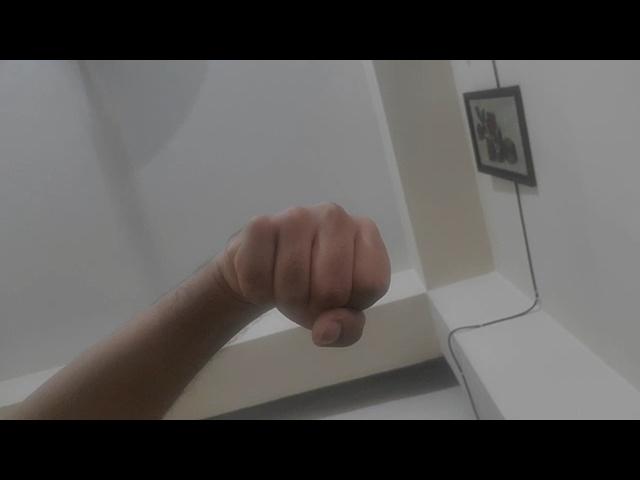Yes: (198, 190, 408, 364)
